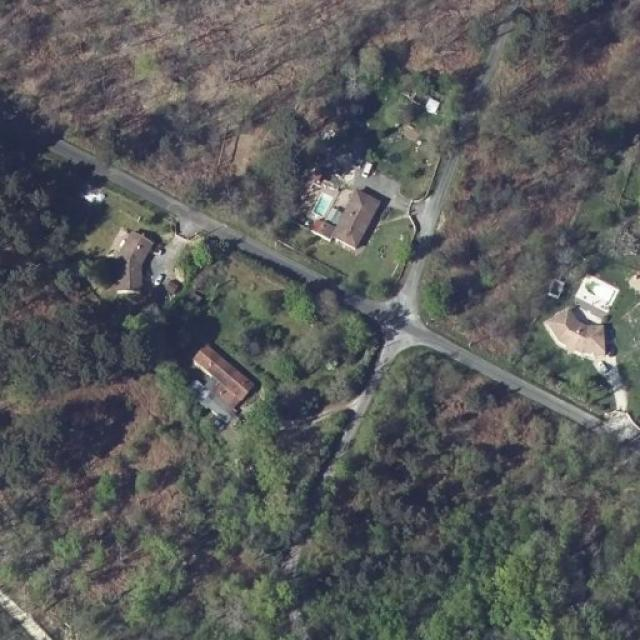maison: (538, 284, 622, 358), (191, 336, 262, 408), (310, 179, 386, 245), (101, 213, 152, 297)
piscine: (304, 188, 335, 216)
